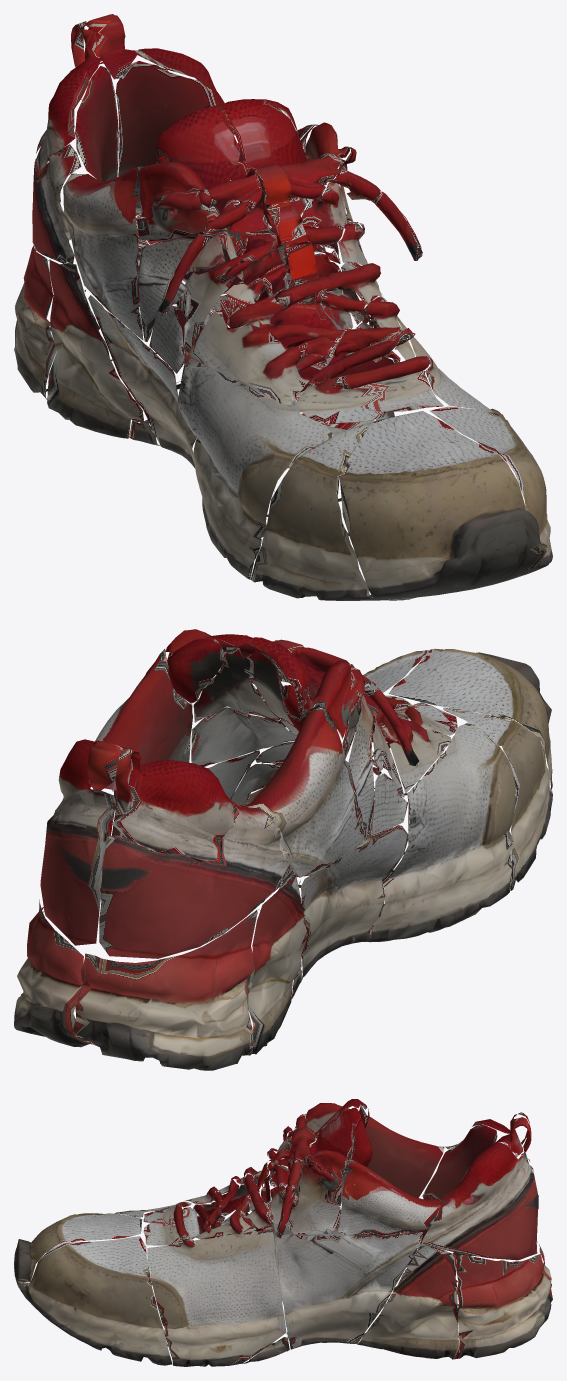
The model's file is sneaker.glb.
3 views of the same model, one above another, from view 1: azimuth 30°, elevation 25°; view 2: azimuth 150°, elevation 25°; view 3: azimuth 270°, elevation 25° (orthographic). The views are drawn at different scales.
Bounding box in the file's own units: 0.369 × 0.4482 × 1.
Materials: 1 (1 with a texture image).
